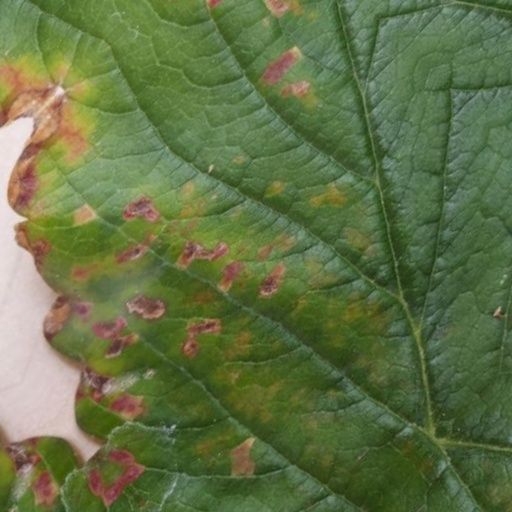Angular Leafspot: (0, 0, 453, 372), (0, 363, 210, 479)
